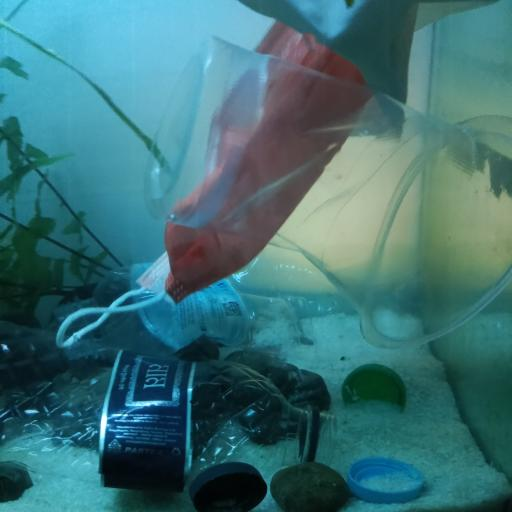bottle_cap: (191, 459, 267, 512), (348, 455, 424, 499), (340, 363, 406, 407)
glove: (238, 0, 418, 141)
mask: (78, 12, 385, 304)
plastic_bottle: (0, 325, 338, 489), (52, 259, 432, 351)
plastic_cup: (142, 37, 512, 346)
